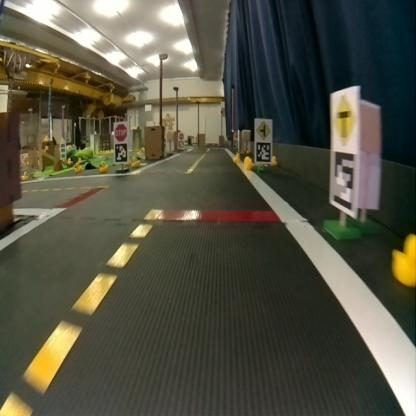Duckie: (392, 232, 414, 284), (244, 156, 252, 170), (98, 162, 105, 171), (74, 163, 81, 170), (20, 171, 26, 179), (233, 152, 238, 160), (132, 156, 136, 166)
Intersection sign: (331, 91, 357, 142), (255, 119, 271, 140)
QR code: (330, 150, 356, 210), (255, 142, 270, 162), (114, 146, 126, 160)
Stop sign: (114, 123, 125, 140)
